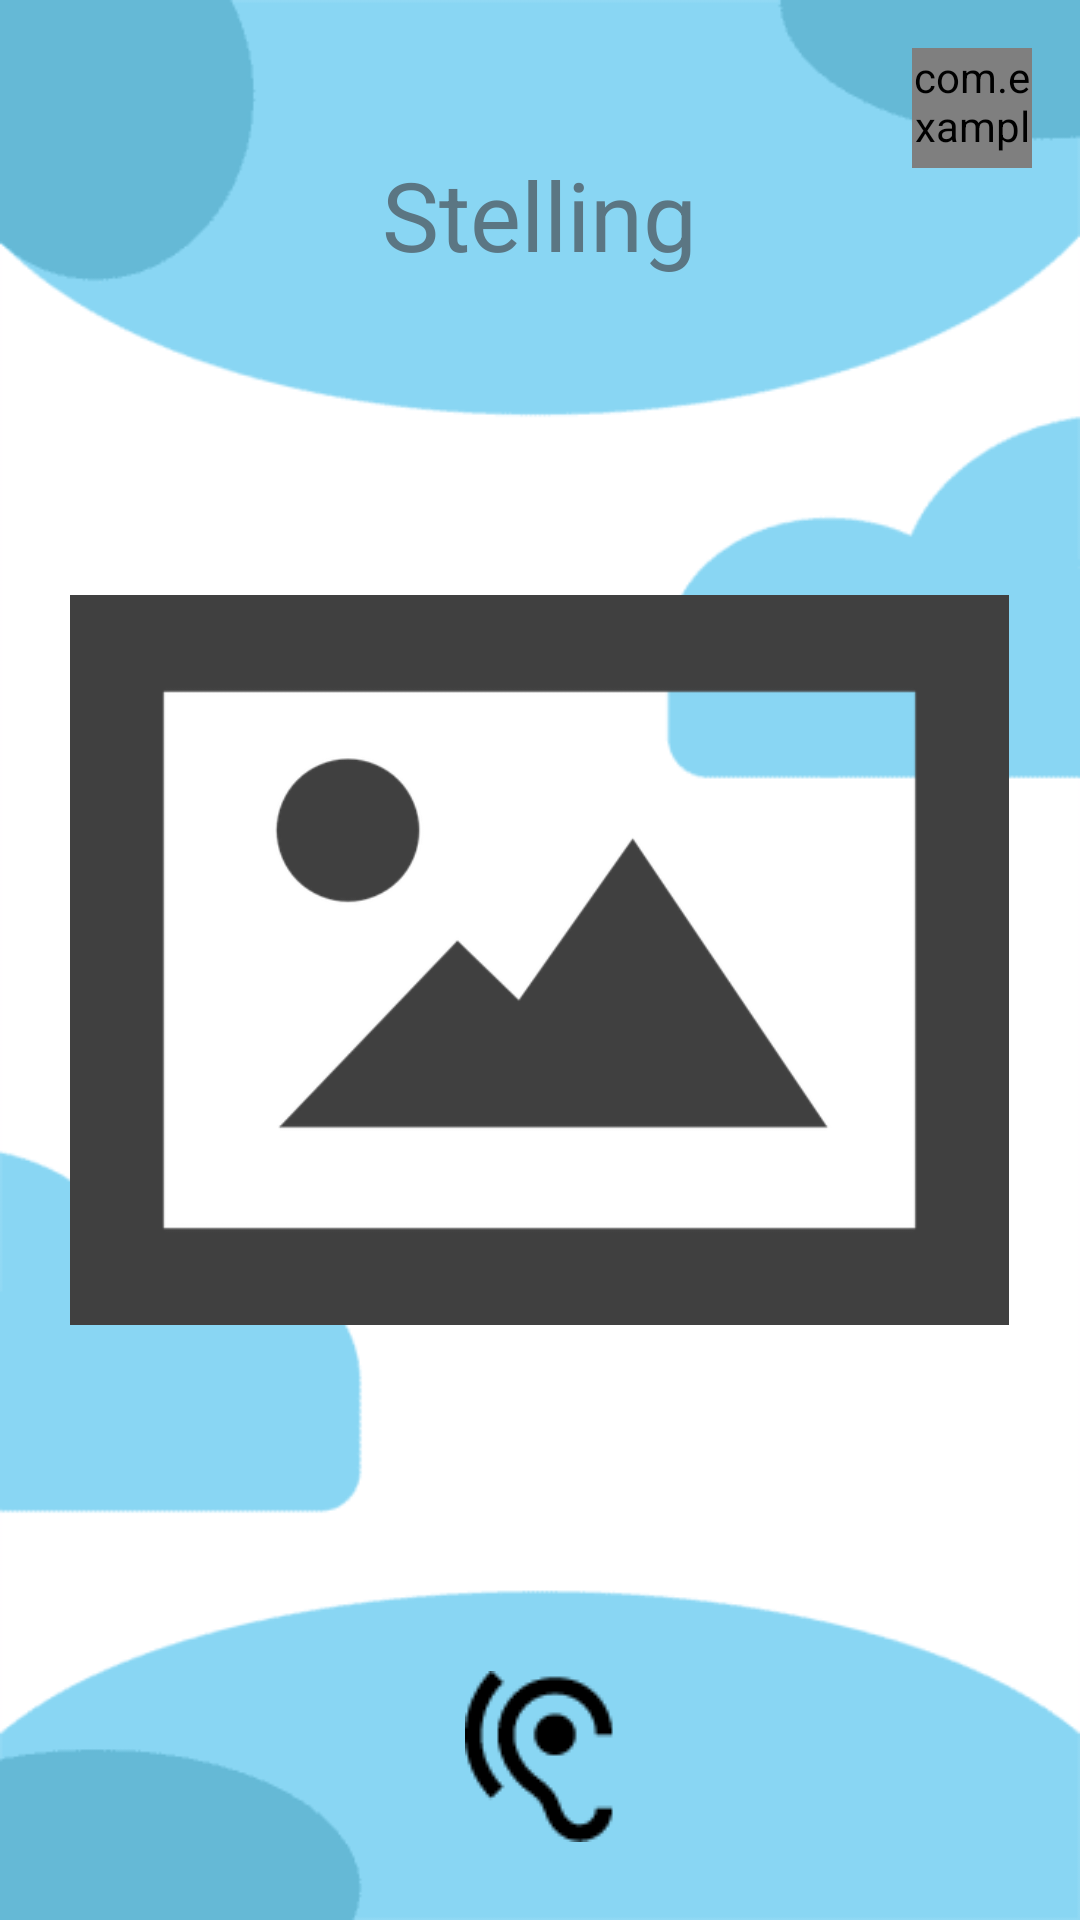

Icons on this 1080*1920 Android screen, each with its box as box(x1, y1, x2, y2):
pictogram oortje: box(465, 1671, 613, 1842)
